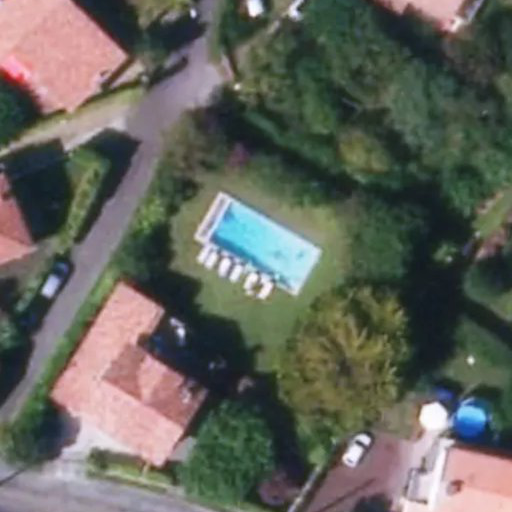pool: (196, 230, 314, 253)
